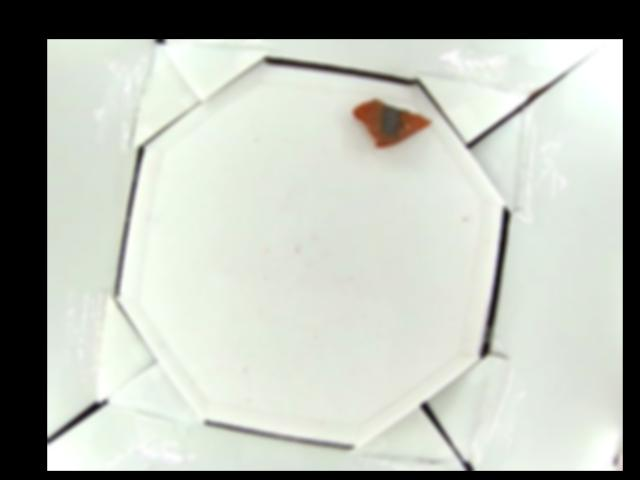Brisk: (352, 97, 430, 148)
